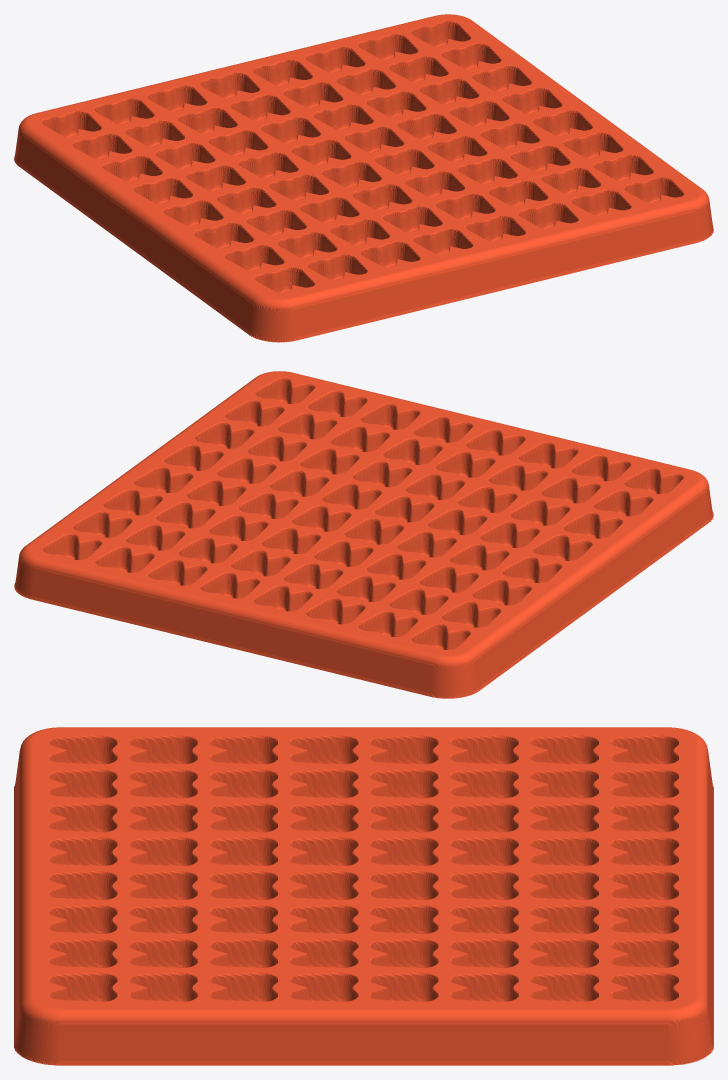
File: mold.glb
3 renders of one model, top to bottom at view 1: azimuth 30°, elevation 25°; view 2: azimuth 150°, elevation 25°; view 3: azimuth 270°, elevation 25°, orthographic. The views are drawn at different scales.
Parts seen in each view (by area): view 1: geometry_0; view 2: geometry_0; view 3: geometry_0.
Boxes of the visible parts, bbox=[...] form: geometry_0: bbox=[14, 14, 713, 342]; geometry_0: bbox=[14, 371, 713, 698]; geometry_0: bbox=[14, 727, 713, 1065].
Bounding box in the file's own units: 0.1355 × 0.0105 × 0.1355.
